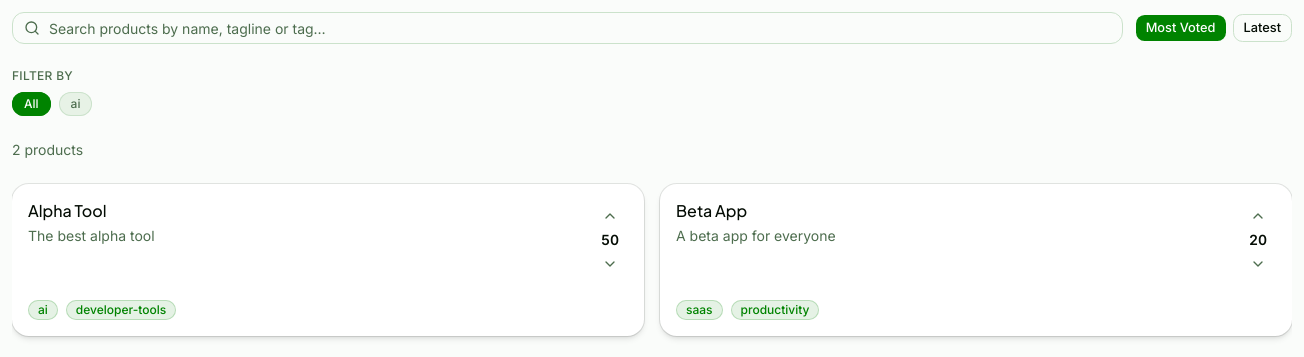
Test: ProductGrid › resets tag filter when All is clicked
Click the button "ai" below "Filter by": coordinates (76, 104) [59,92,92,116]
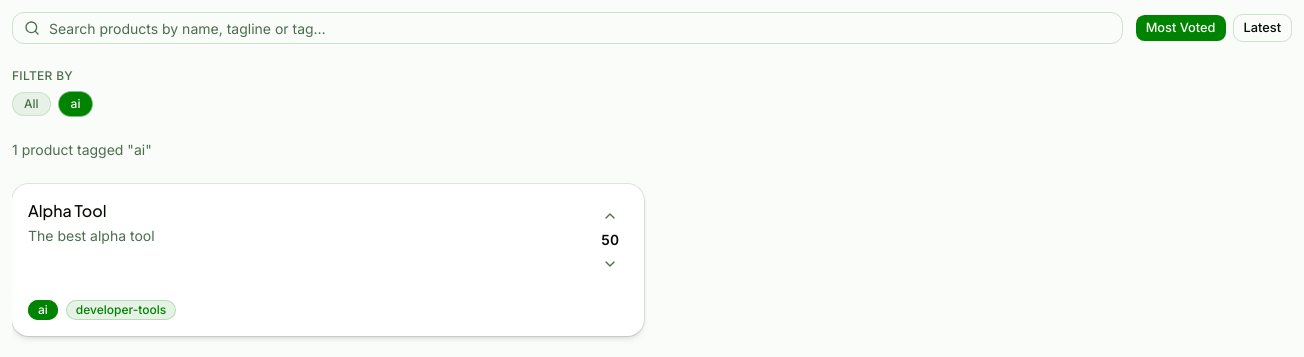
Click the button "All": coordinates (31, 104) [12,92,51,116]
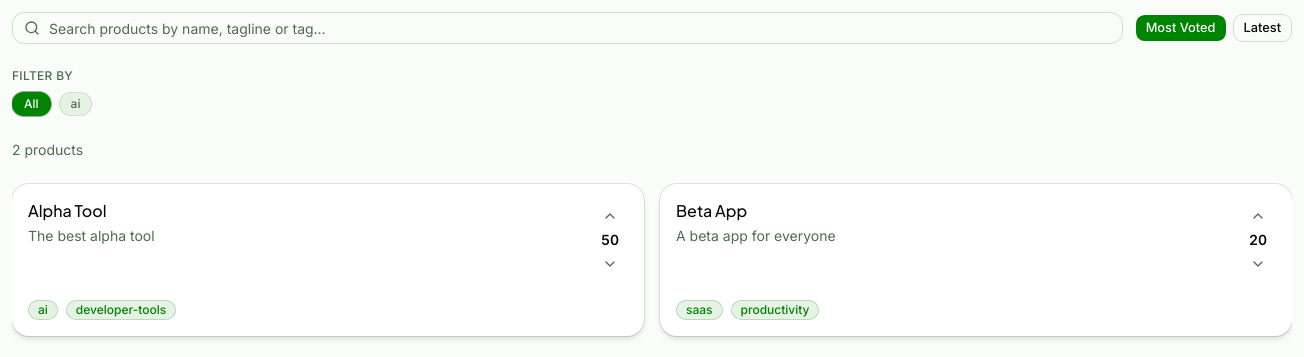
Expected: the text "Alpha Tool" is shown, [28,200,106,221]
Result: the text "Beta App" is shown at [676,200,747,221]
